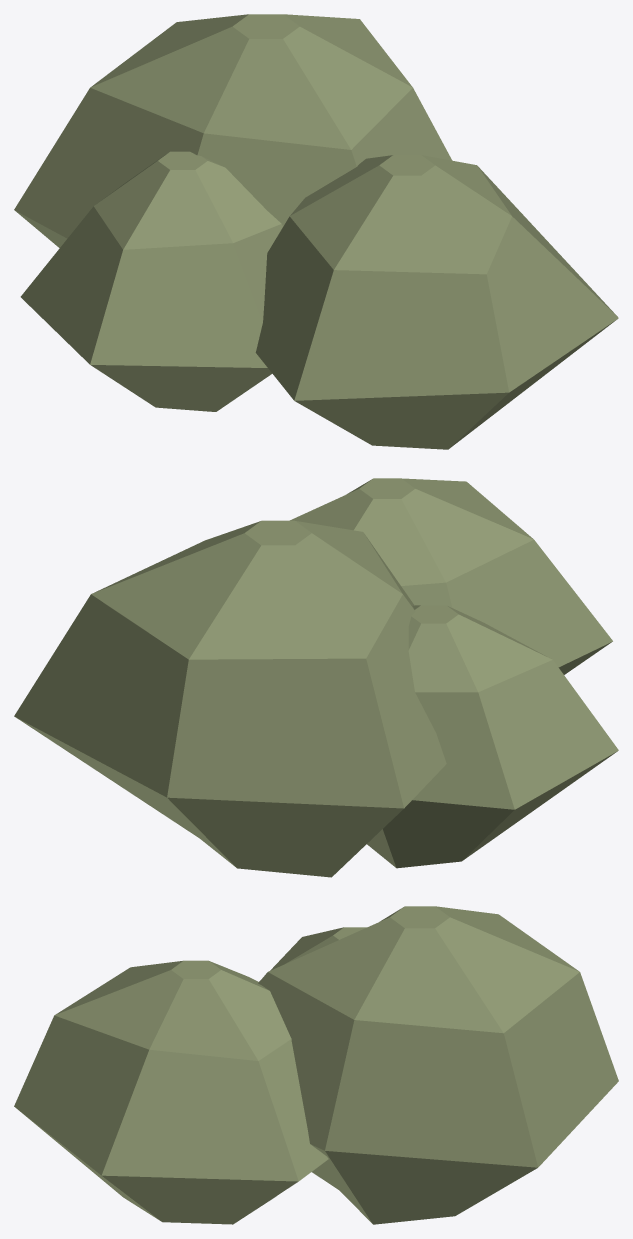
Rendered from SM_Sagebrush_A.fbx.
The picture shows the model from 3 angles, top to bottom: view 1: azimuth 30°, elevation 25°; view 2: azimuth 150°, elevation 25°; view 3: azimuth 270°, elevation 25°; orthographic projection. The views are drawn at different scales.
Parts seen in each view (by area): view 1: Sagebrush_A; view 2: Sagebrush_A; view 3: Sagebrush_A.
Part boxes in pixels (bbox=[...]): Sagebrush_A: bbox=[14, 14, 618, 449]; Sagebrush_A: bbox=[14, 478, 618, 877]; Sagebrush_A: bbox=[14, 906, 618, 1224].
Size of the model in its own units: 99.81 by 128 by 63.78.
